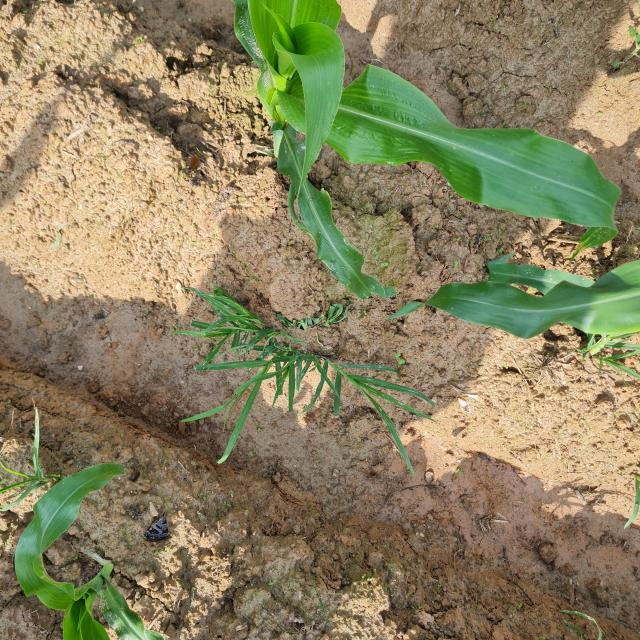maize: (150, 0, 640, 270), (383, 250, 640, 376), (0, 443, 159, 640)
weed: (141, 277, 441, 475), (0, 412, 46, 504)
